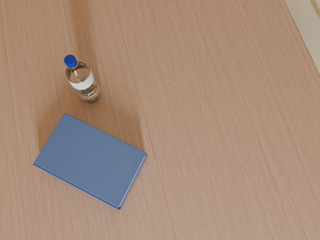book: (33, 113, 147, 210)
bottle: (64, 55, 100, 102)
